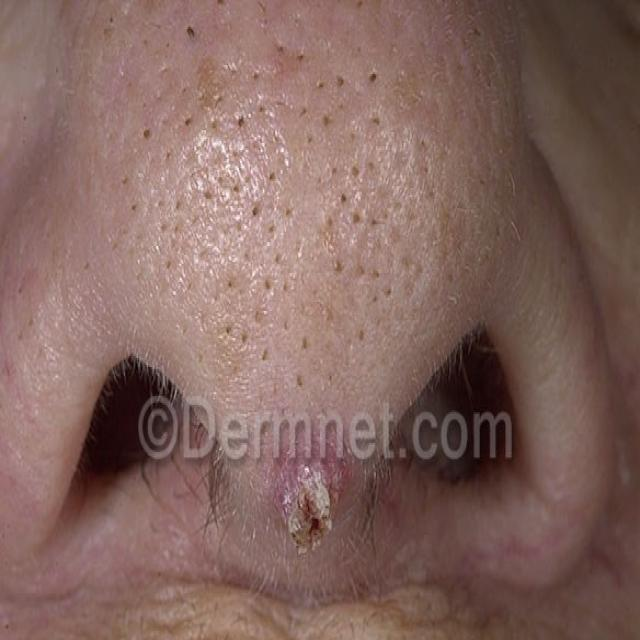Warts: (267, 446, 349, 580)
